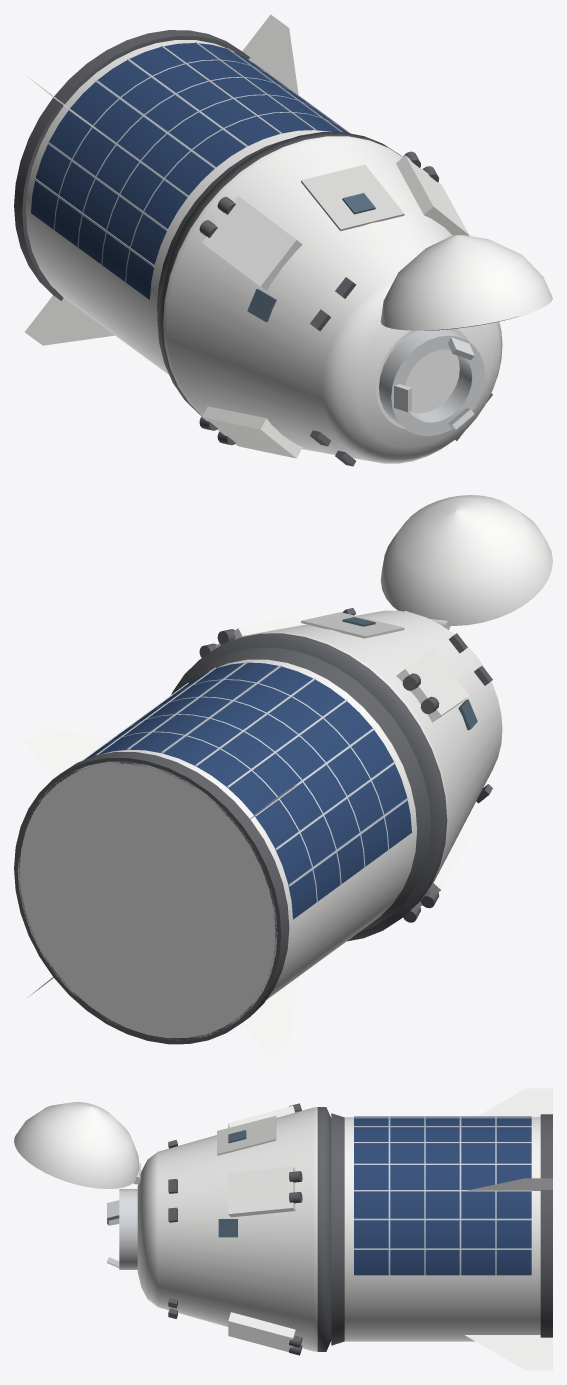
File: satellite-dragon.glb
3 views of the same model, one above another, from view 1: azimuth 30°, elevation 25°; view 2: azimuth 150°, elevation 25°; view 3: azimuth 270°, elevation 25° (orthographic). The views are drawn at different scales.
Parts seen in each view (by area): view 1: satellite-dragon; view 2: satellite-dragon; view 3: satellite-dragon.
Boxes of the visible parts, bbox=[...] form: satellite-dragon: bbox=[14, 14, 552, 466]; satellite-dragon: bbox=[14, 495, 552, 1059]; satellite-dragon: bbox=[14, 1088, 552, 1370].
Bounding box in the file's own units: 4 × 4.21 × 8.8.
